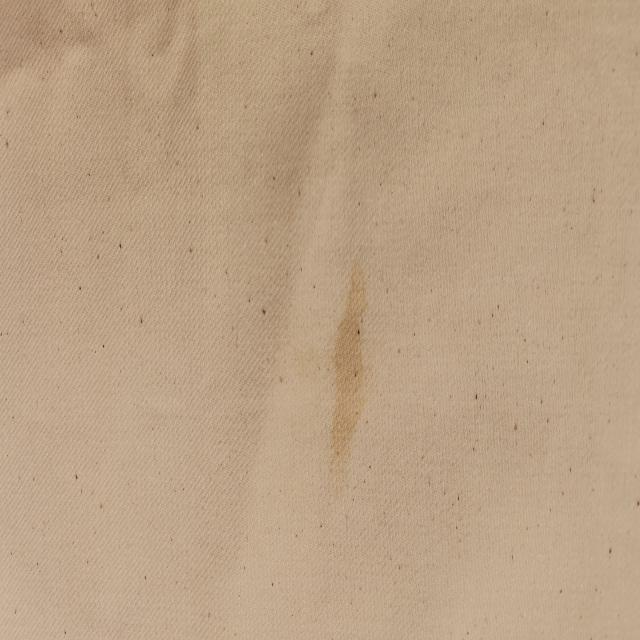taaaches: (316, 222, 398, 496)
